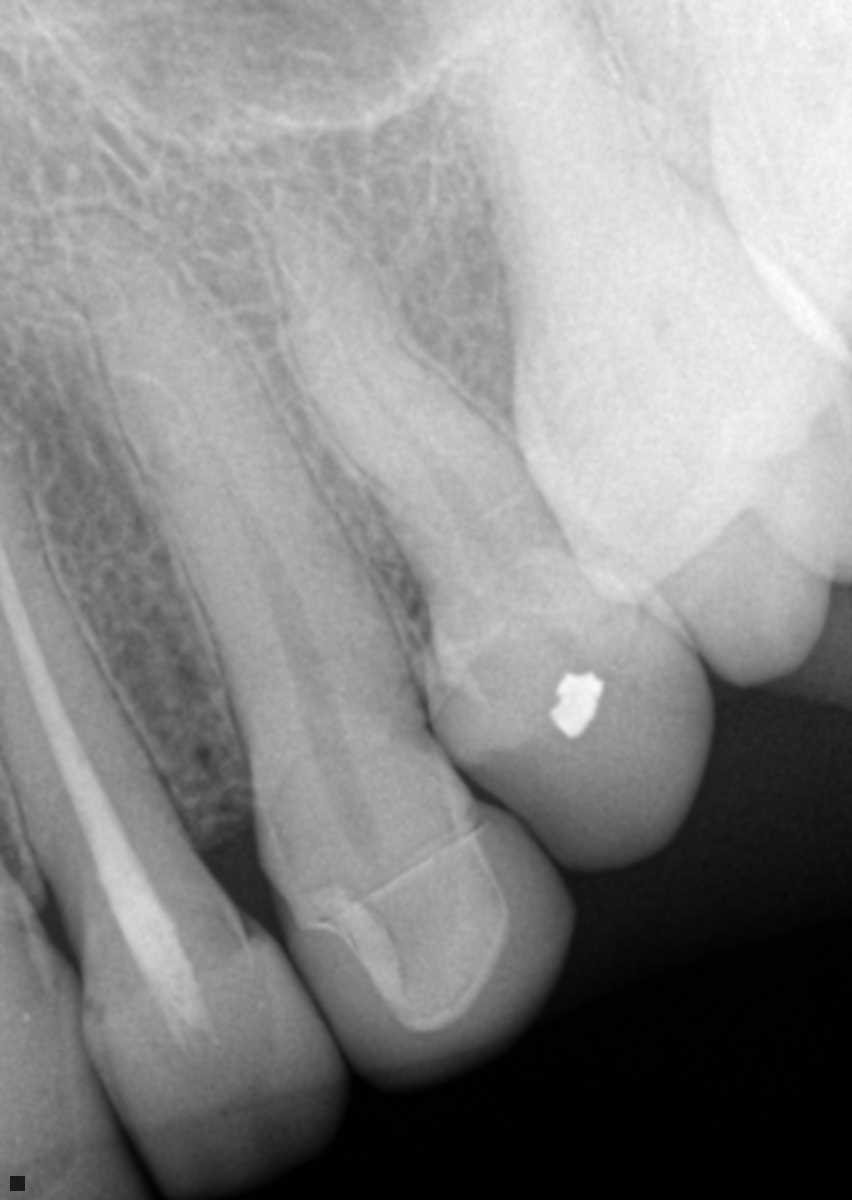Main Canal: (351, 334, 524, 596), (212, 434, 349, 752)
Main Root: (24, 189, 437, 807), (418, 0, 805, 468), (246, 184, 590, 673), (0, 420, 215, 900)
Root Canal Filling: (0, 568, 147, 893)
